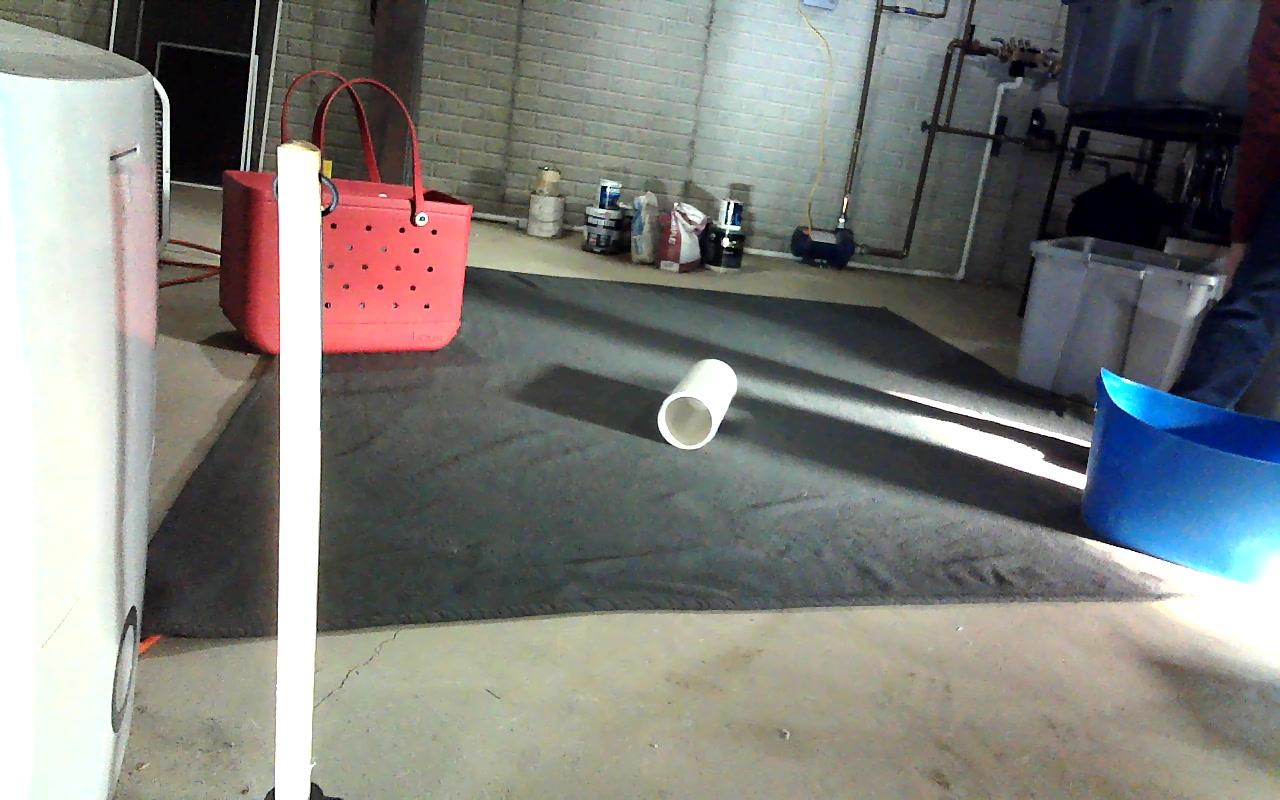coral: (657, 358, 737, 448)
